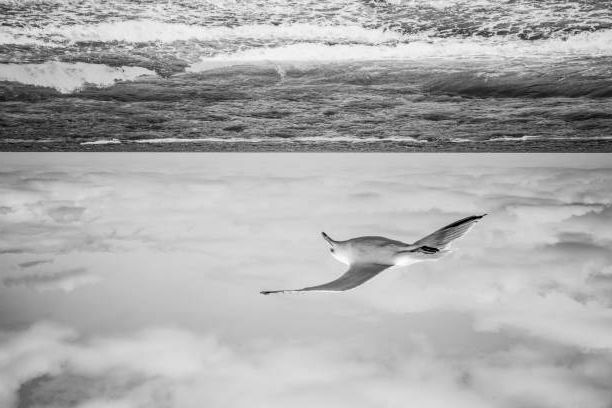Bird: (257, 208, 487, 295)
